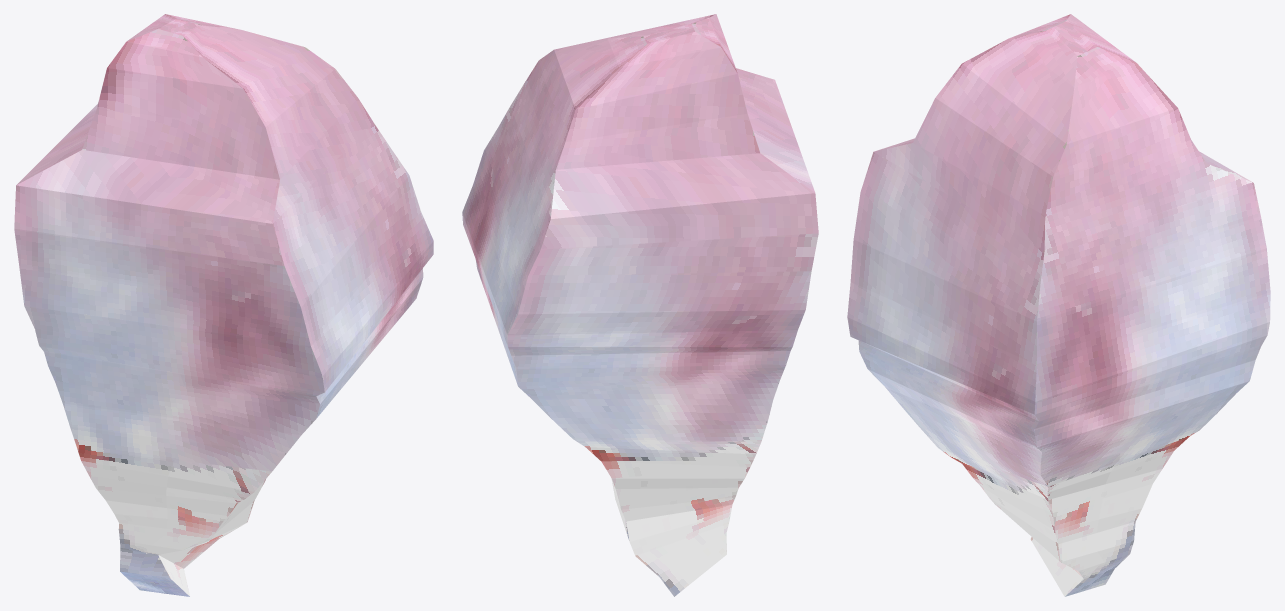
3 views of the same model, side by side, from view 1: azimuth 30°, elevation 25°; view 2: azimuth 150°, elevation 25°; view 3: azimuth 270°, elevation 25° (orthographic). The views are drawn at different scales.
Parts seen in each view (by area): view 1: SPLICE_1; view 2: SPLICE_1; view 3: SPLICE_1.
Part boxes in pixels (left/top/right/bottom): SPLICE_1: left=14, top=14, right=433, bottom=596; SPLICE_1: left=462, top=14, right=818, bottom=596; SPLICE_1: left=847, top=14, right=1270, bottom=596.
Size of the model in its own units: 1.01 by 1.4 by 0.9575.
Materials: 1 (1 with a texture image).
